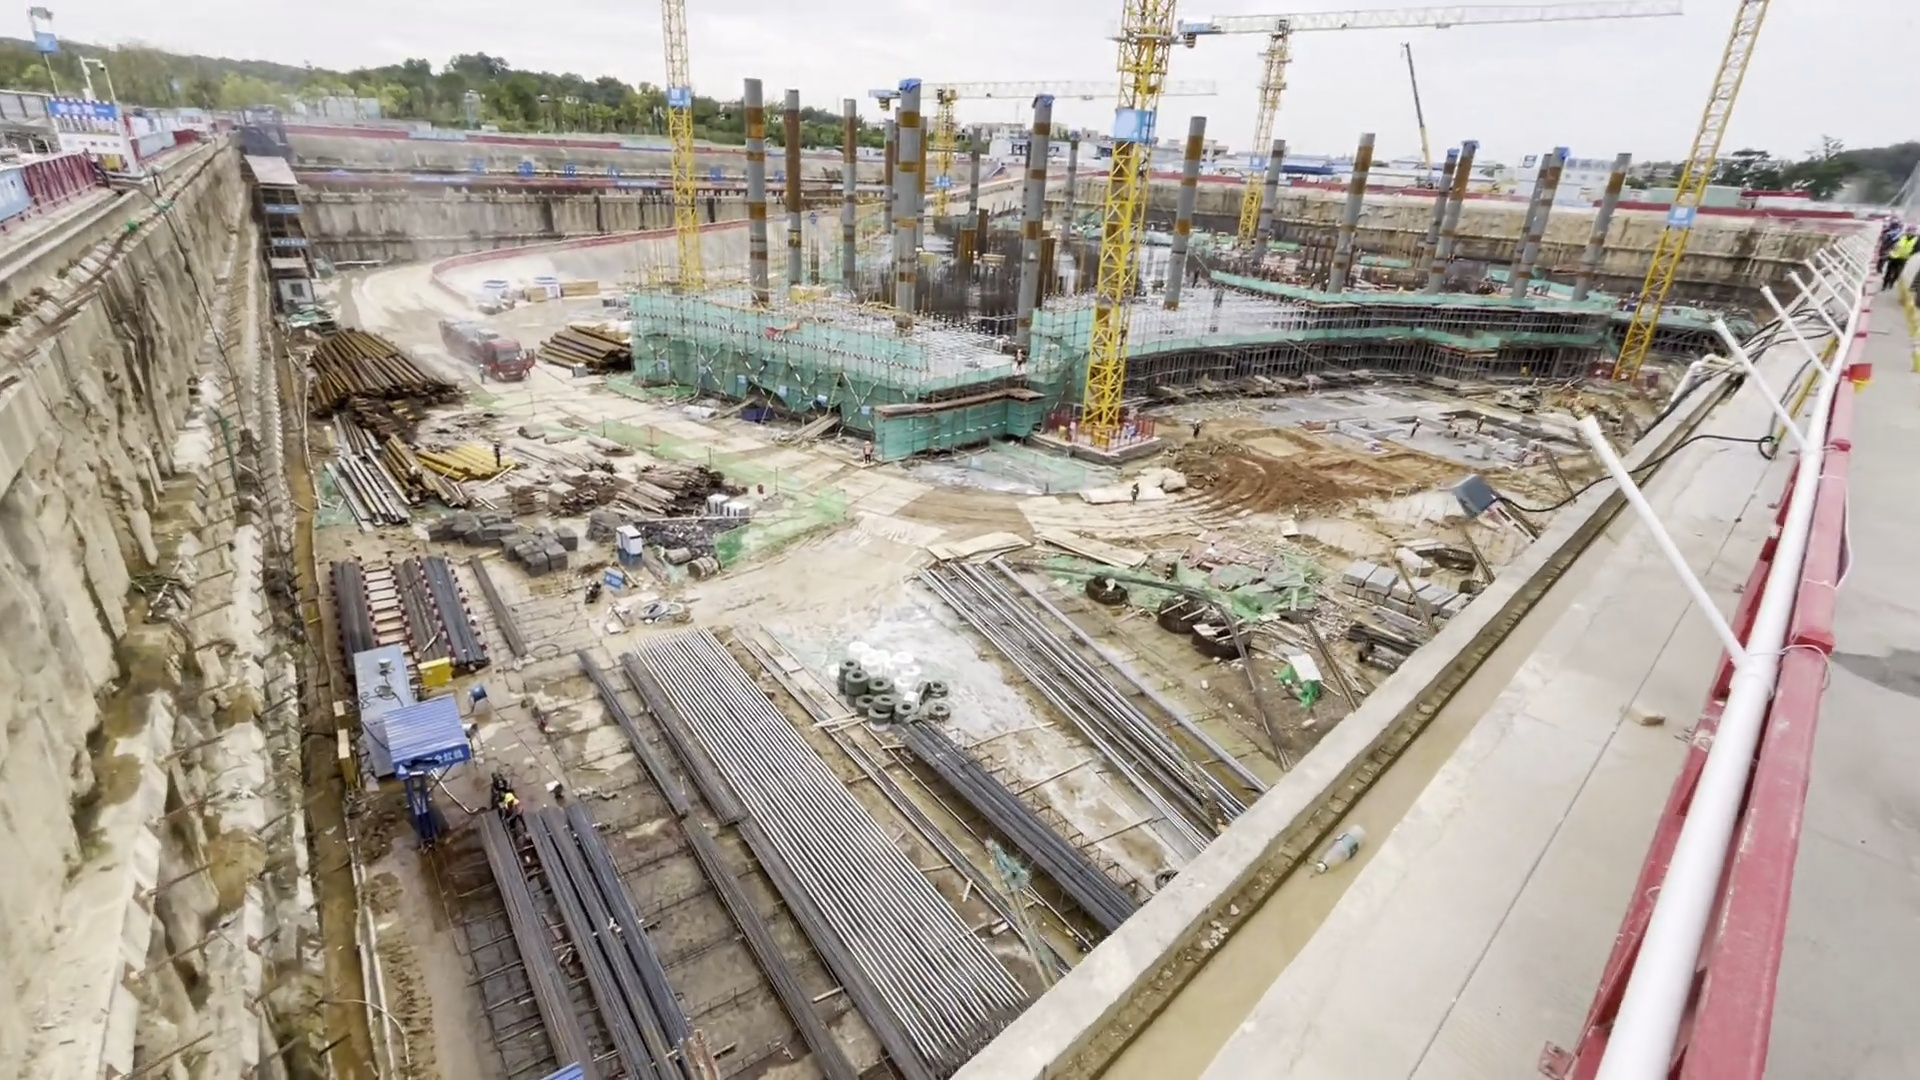brick: (1351, 551, 1471, 648), (706, 491, 747, 526)
ebox: (419, 657, 463, 692), (1093, 429, 1110, 446)
fence: (1573, 323, 1883, 1080), (37, 147, 111, 215)
helmet: (502, 791, 514, 801), (492, 435, 501, 442), (864, 440, 871, 444), (1017, 348, 1022, 352)
hopper: (741, 405, 775, 424)
person: (1890, 211, 1919, 303), (501, 789, 527, 830), (861, 438, 875, 468), (1192, 414, 1206, 444), (491, 431, 503, 467), (1409, 418, 1424, 439), (1130, 480, 1142, 505), (1014, 347, 1025, 372), (476, 363, 487, 383)
rebar: (913, 719, 1163, 923), (713, 844, 913, 1080), (499, 820, 668, 1078), (587, 664, 746, 822), (956, 580, 1126, 719), (427, 553, 487, 671), (333, 568, 378, 649)
slogan: (468, 154, 623, 179), (398, 749, 479, 769)
vest: (505, 800, 522, 811), (865, 446, 872, 456), (1017, 353, 1024, 361)
wood: (625, 464, 704, 513)
